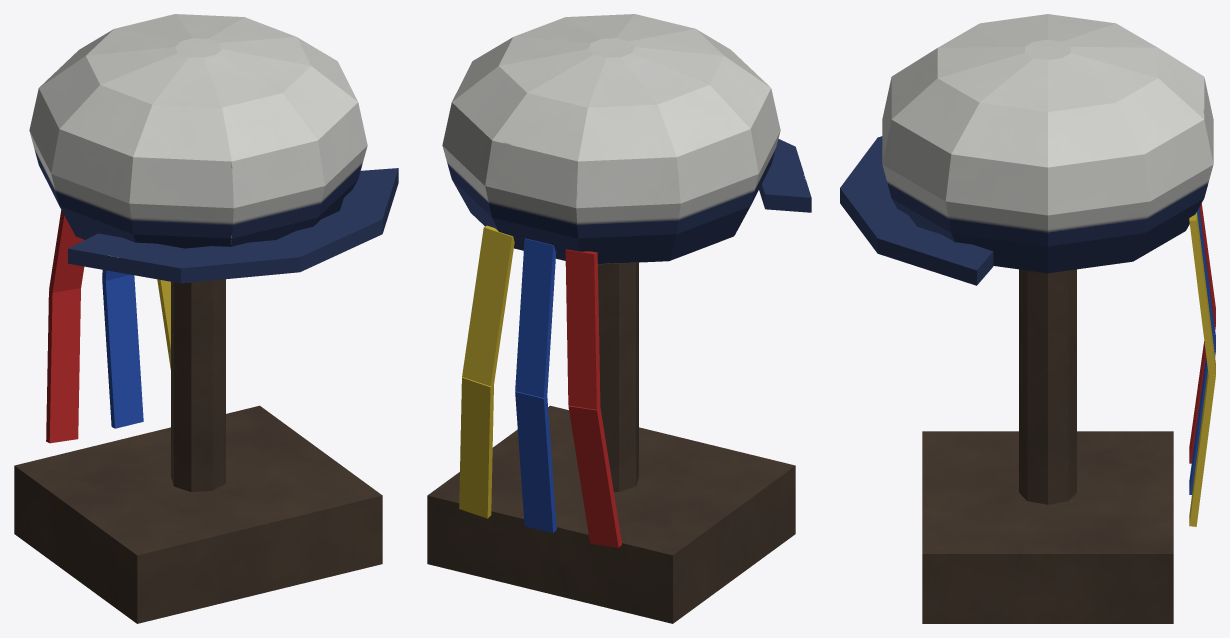
File: 트로피_삼대장.fbx
3 renders of one model, left to right at view 1: azimuth 30°, elevation 25°; view 2: azimuth 150°, elevation 25°; view 3: azimuth 270°, elevation 25°, orthographic. The views are drawn at different scales.
Visible parts, largest first — view 1: 트로피_삼대장; view 2: 트로피_삼대장; view 3: 트로피_삼대장.
Boxes of the visible parts, x1,y1,x2,y2 form: 트로피_삼대장: (14,14,398,623); 트로피_삼대장: (427,14,811,623); 트로피_삼대장: (840,14,1215,623).
Size of the model in its own units: 80.81 by 117 by 77.74.
Materials: 3 (3 with a texture image).
